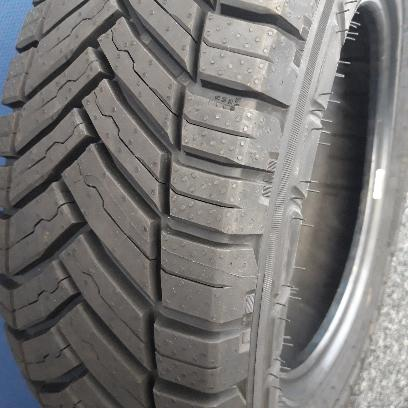temoin:100: (202, 96, 237, 113)
